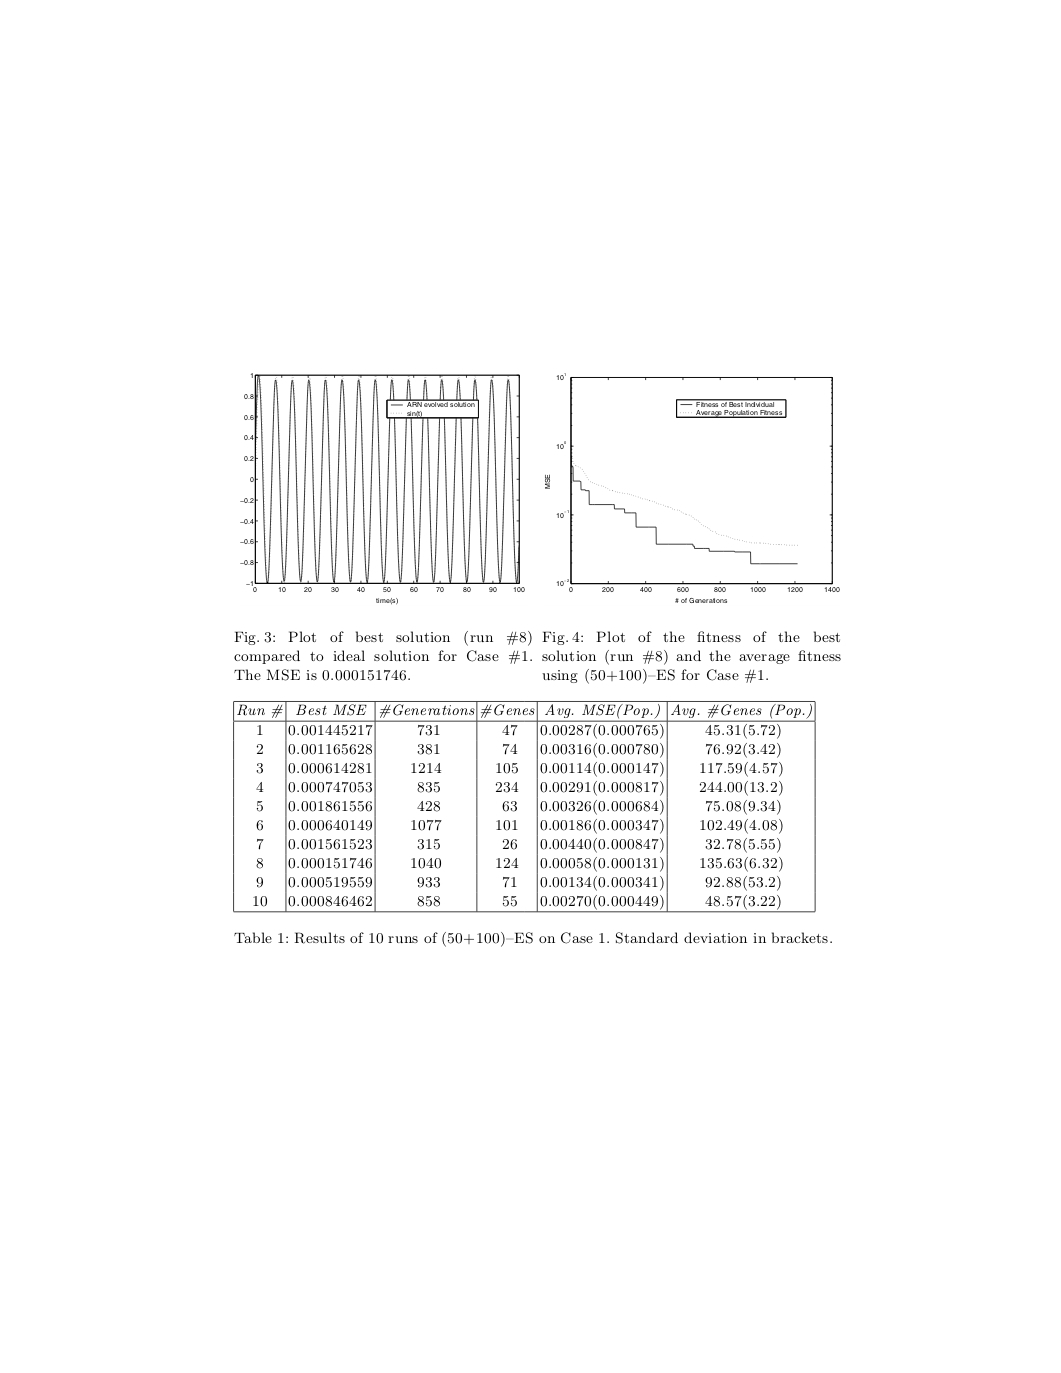Table: (233, 700, 815, 913)
figure: (544, 373, 839, 603), (240, 373, 524, 604)
